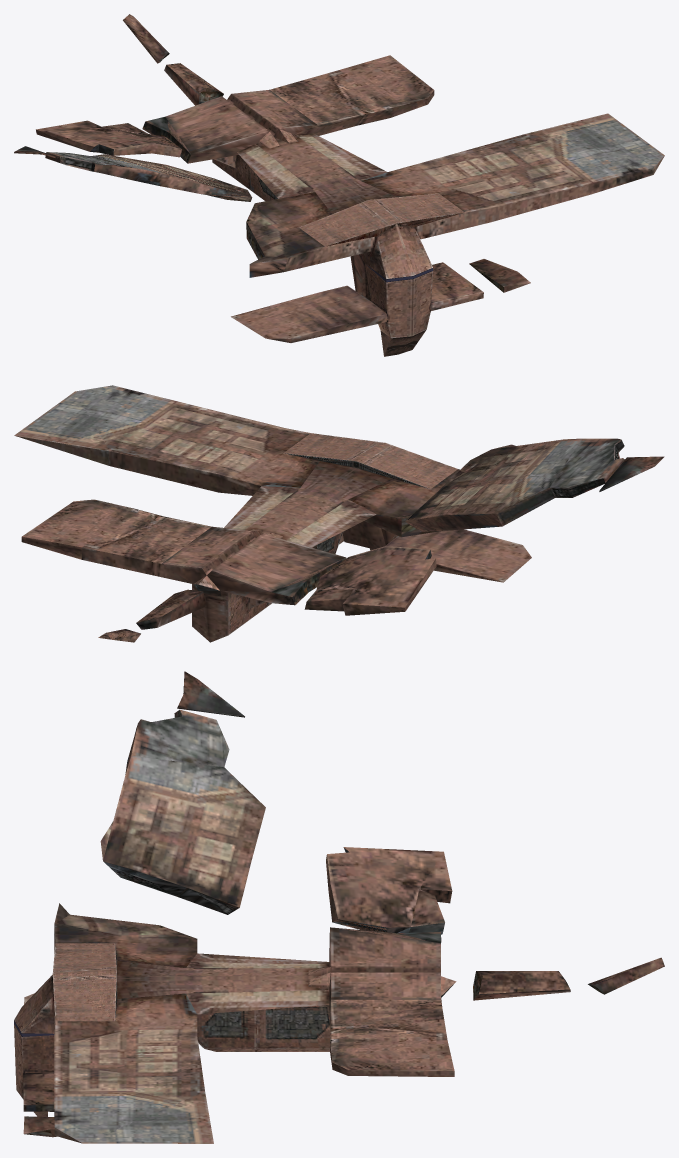
The model's file is spacestation_tradefed_destroyed_hulk_l4.fbx.
3 views of the same model, one above another, from view 1: azimuth 30°, elevation 25°; view 2: azimuth 150°, elevation 25°; view 3: azimuth 270°, elevation 25° (orthographic). The views are drawn at different scales.
Visible parts, largest first — view 1: mesh_node; view 2: mesh_node; view 3: mesh_node.
Boxes of the visible parts, <box> form: mesh_node: <box>14,14,664,356</box>; mesh_node: <box>14,385,664,642</box>; mesh_node: <box>14,671,664,1143</box>.
Bounding box in the file's own units: 301 × 113 × 245.
Materials: 1 (1 with a texture image).
